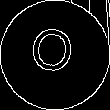O_S: (31, 27, 79, 82)
